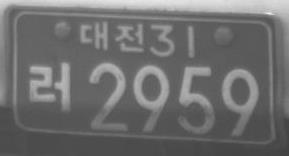1: (180, 24, 201, 59)
2: (88, 61, 129, 133)
3: (149, 22, 176, 58)
5: (175, 64, 216, 136)
9: (220, 67, 260, 138), (132, 63, 171, 133)
대전_O: (77, 20, 146, 53)
러: (27, 61, 72, 114)
